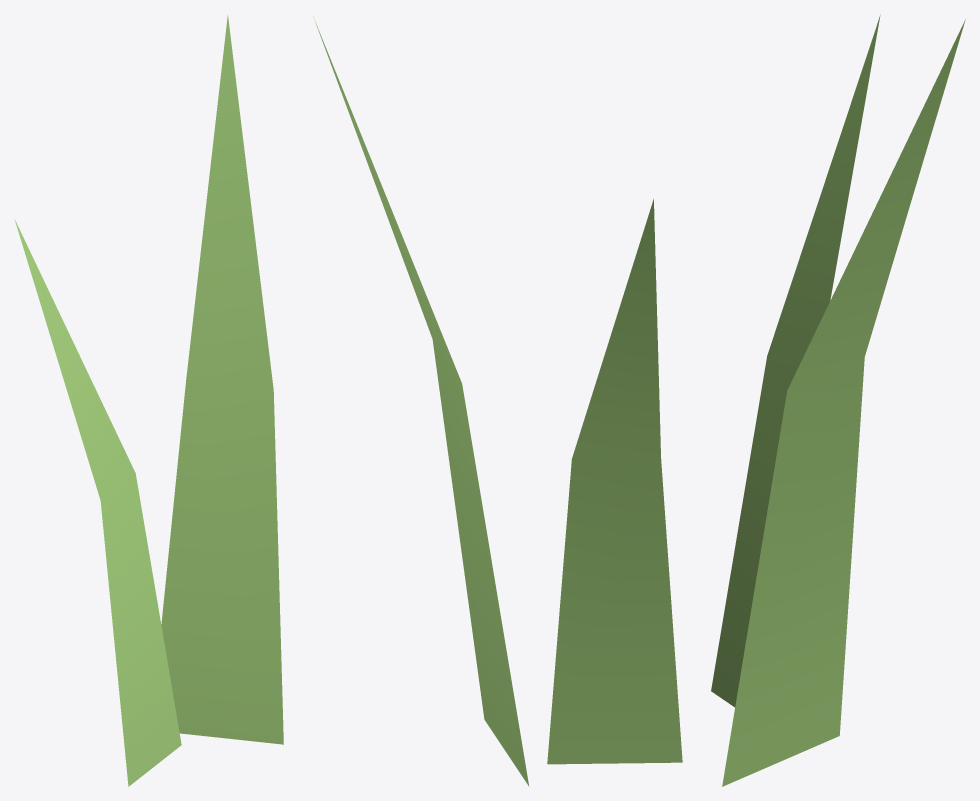
Rendered from Grass_a_OneS_01.fbx.
The picture shows the model from 3 angles, left to right: view 1: azimuth 30°, elevation 25°; view 2: azimuth 150°, elevation 25°; view 3: azimuth 270°, elevation 25°; orthographic projection. The views are drawn at different scales.
Parts seen in each view (by area): view 1: Grass_a_OneS_01; view 2: Grass_a_OneS_01; view 3: Grass_a_OneS_01.
Part boxes in pixels (left/top/right/bottom): Grass_a_OneS_01: left=14, top=15, right=283, bottom=786; Grass_a_OneS_01: left=313, top=17, right=682, bottom=786; Grass_a_OneS_01: left=711, top=14, right=965, bottom=786.
Bounding box in the file's own units: 22.45 × 55.87 × 16.25.
